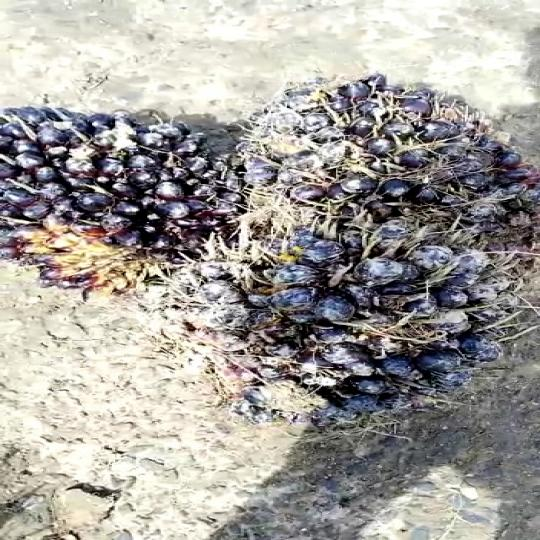mentah: (178, 232, 516, 438), (240, 73, 540, 259), (0, 92, 258, 287)
